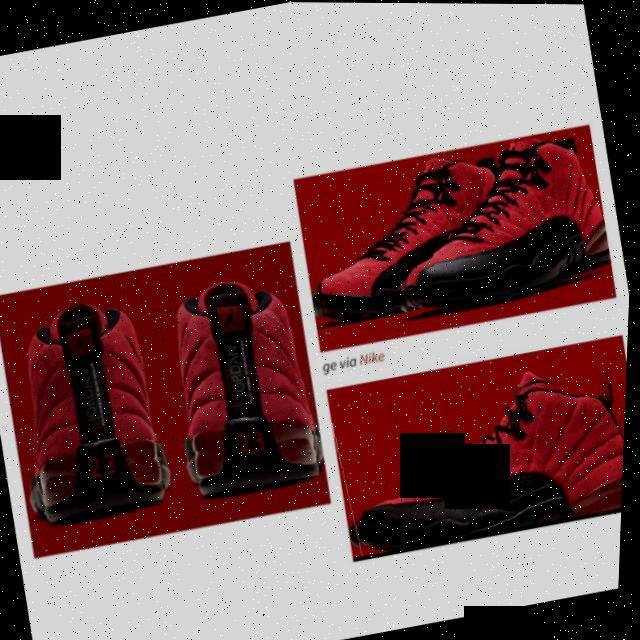shoe: (329, 358, 630, 559), (374, 126, 620, 320), (3, 292, 183, 552), (142, 261, 332, 502), (295, 148, 524, 329)
